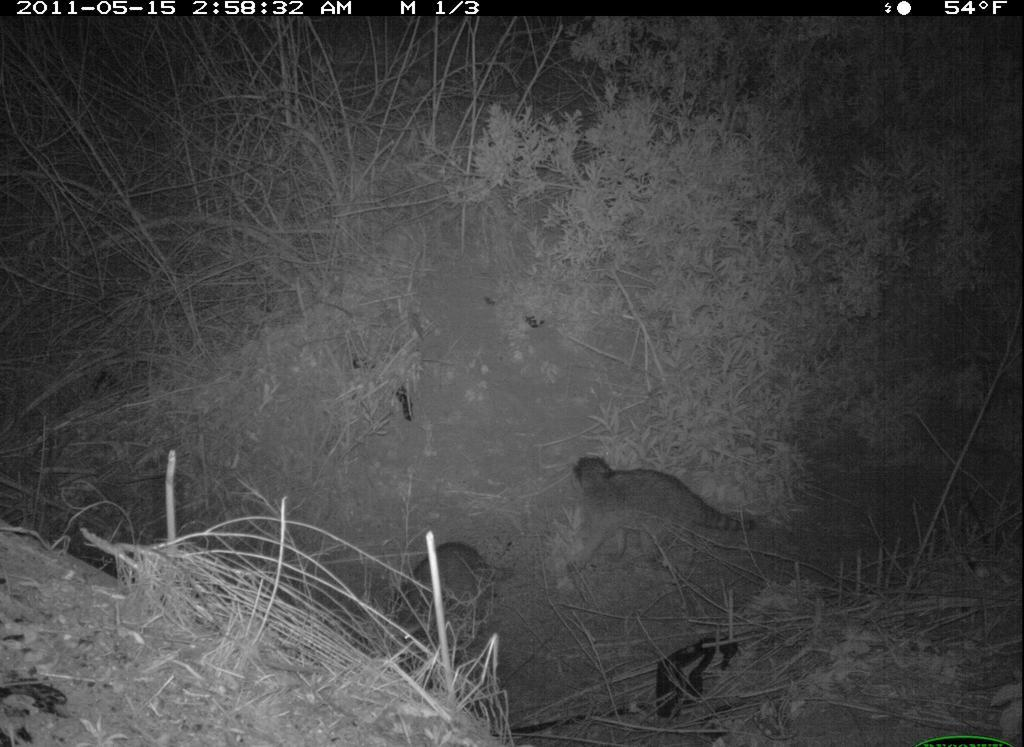raccoon: (565, 452, 766, 582), (386, 537, 520, 664)
